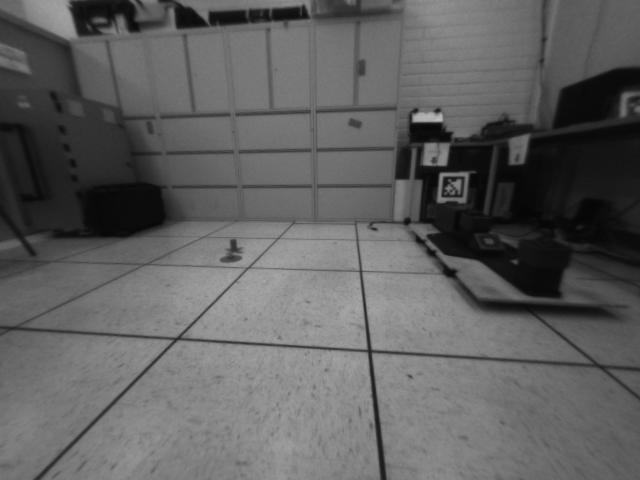X: (225, 239, 245, 254)
